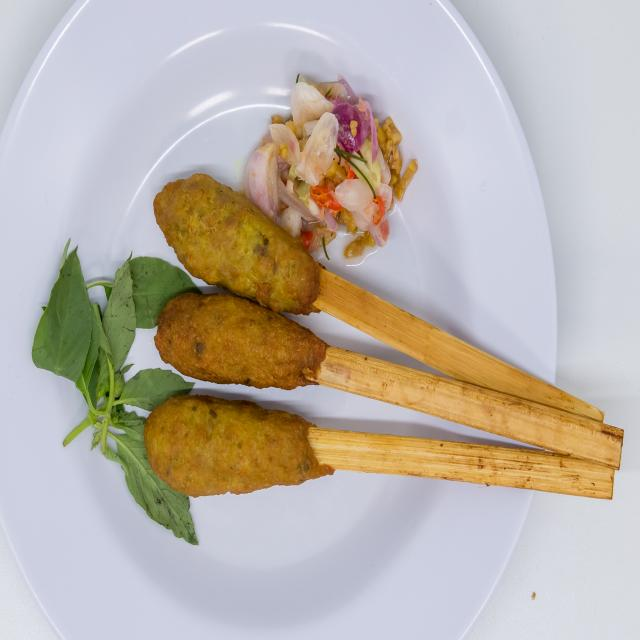Sate-Lilit: (114, 53, 534, 564)
